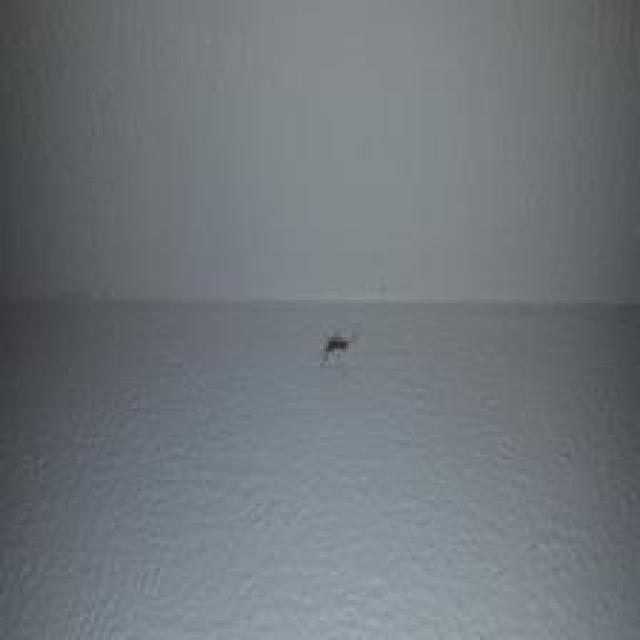Culex: (320, 331, 351, 360)
